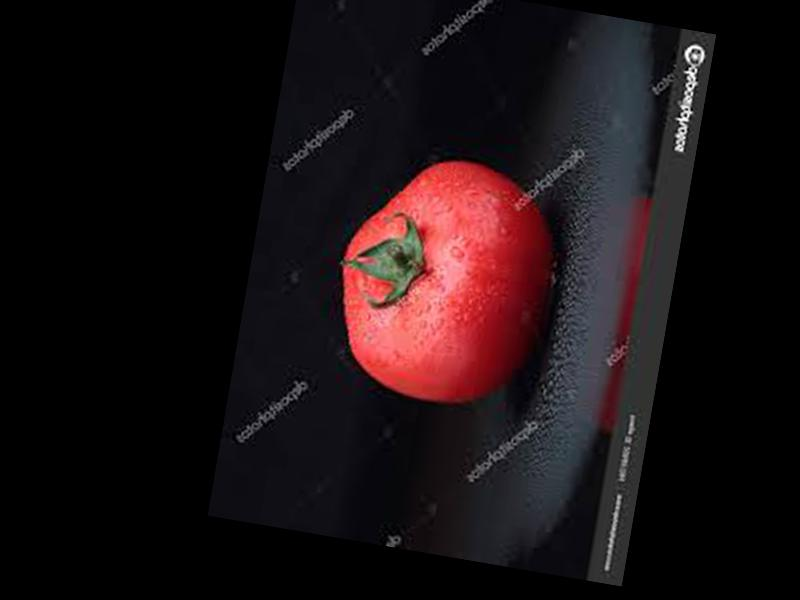Tomato: (320, 142, 569, 419)
